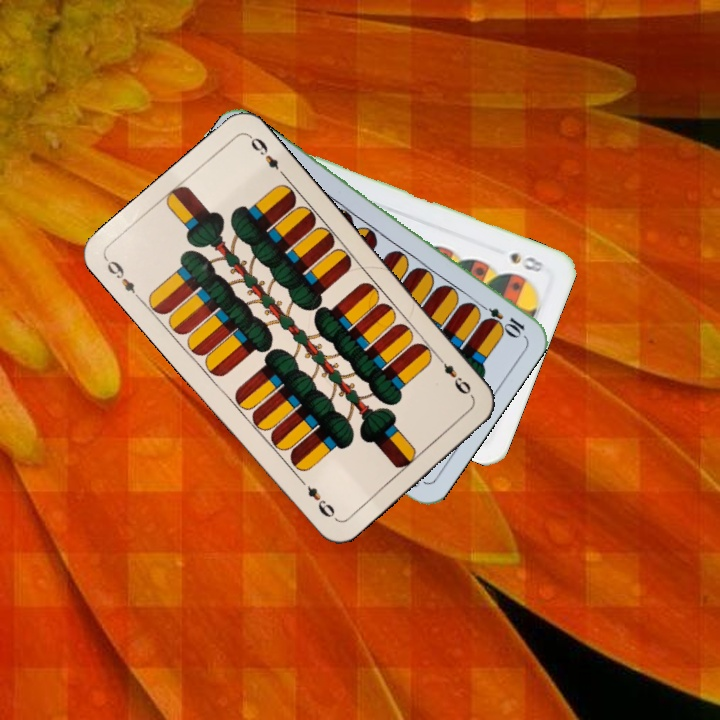E10: (472, 298, 528, 338)
E9: (433, 352, 477, 401), (102, 255, 145, 304)
S8: (506, 248, 548, 275)
